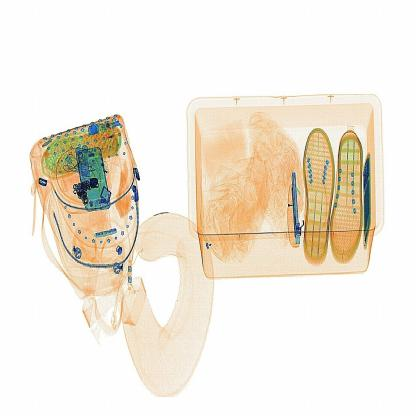pliers: (286, 173, 308, 248)
